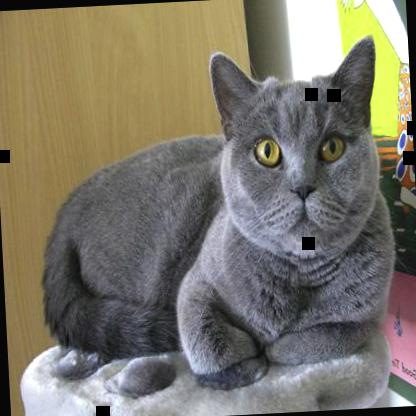cat: (31, 31, 400, 390)
